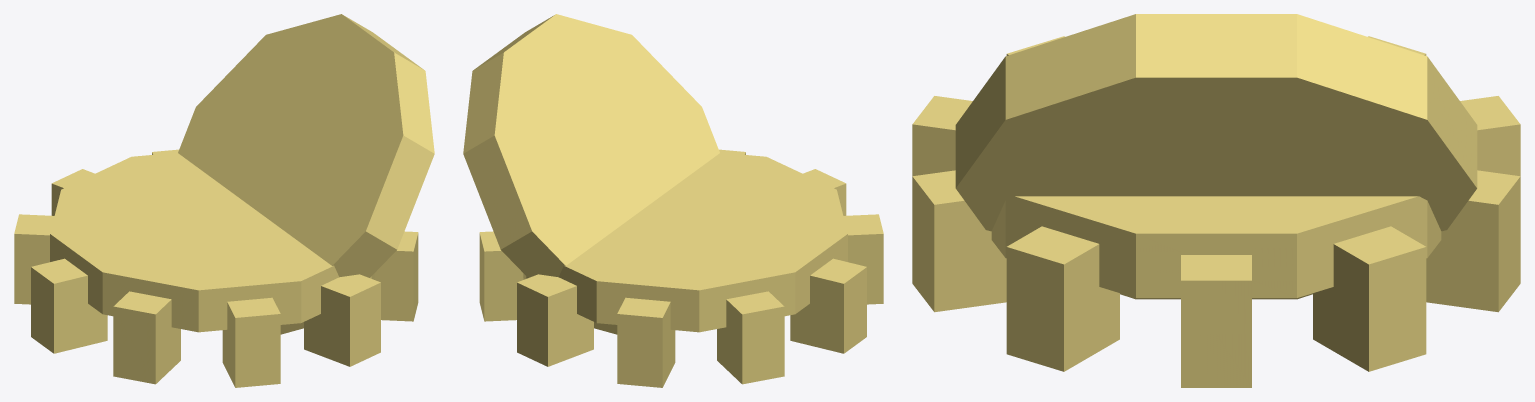
File: bottle_cap.glb
3 views of the same model, side by side, from view 1: azimuth 30°, elevation 25°; view 2: azimuth 150°, elevation 25°; view 3: azimuth 270°, elevation 25° (orthographic). The views are drawn at different scales.
Visible parts, largest first — view 1: bottle_cap; view 2: bottle_cap; view 3: bottle_cap.
Boxes of the visible parts, bbox=[...] form: bottle_cap: bbox=[14, 14, 434, 387]; bottle_cap: bbox=[463, 14, 883, 387]; bottle_cap: bbox=[912, 14, 1520, 387].
Bounding box in the file's own units: 0.0534 × 0.0365 × 0.0513.
